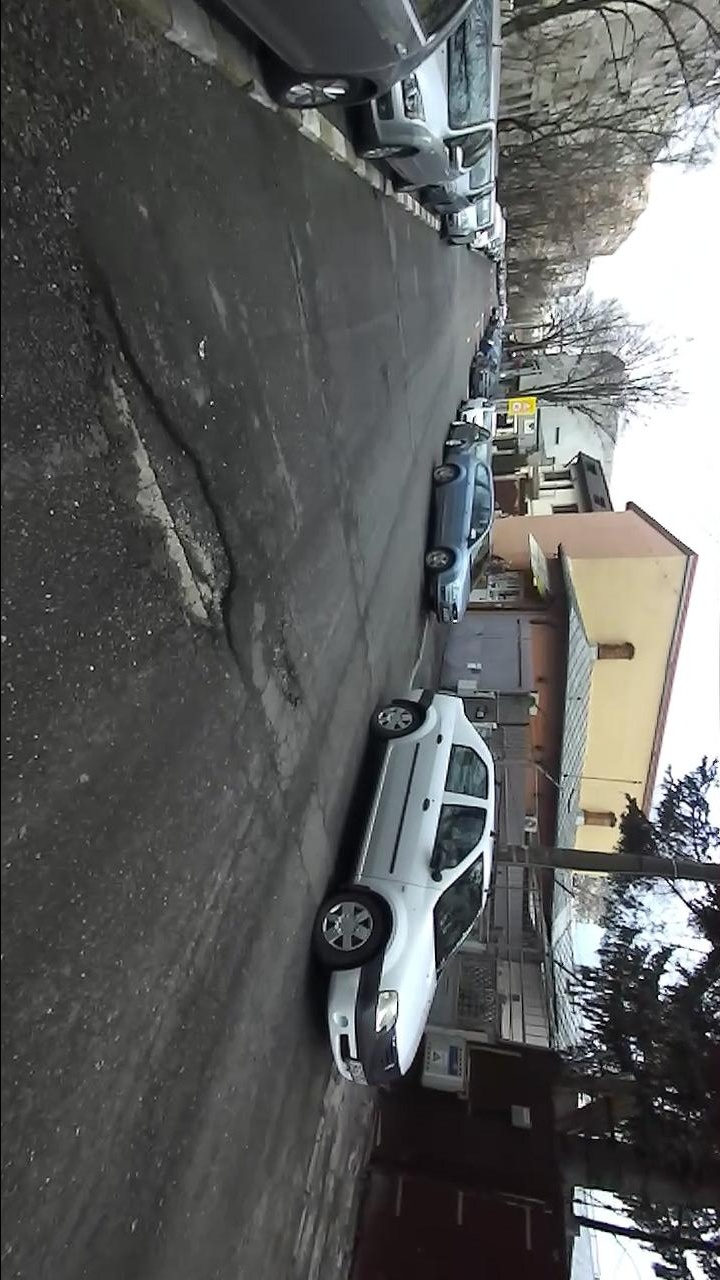pothole: (78, 257, 244, 674), (268, 609, 309, 714), (283, 227, 315, 331)
